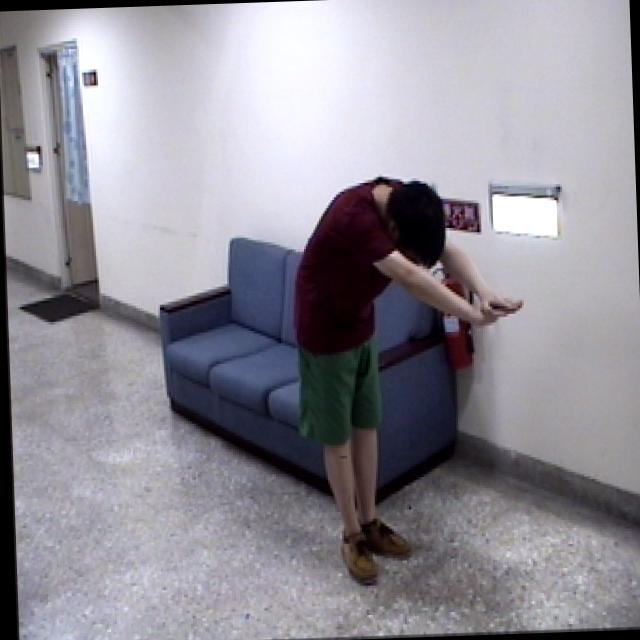bend: (282, 163, 537, 595)
